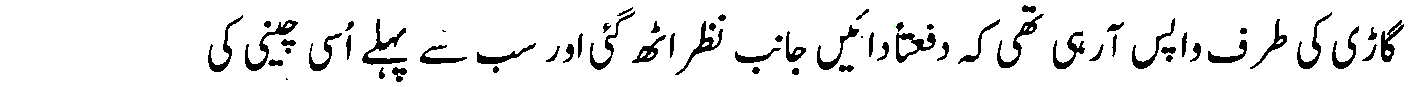bay_shosha: (727, 45, 773, 79), (471, 47, 513, 73)
